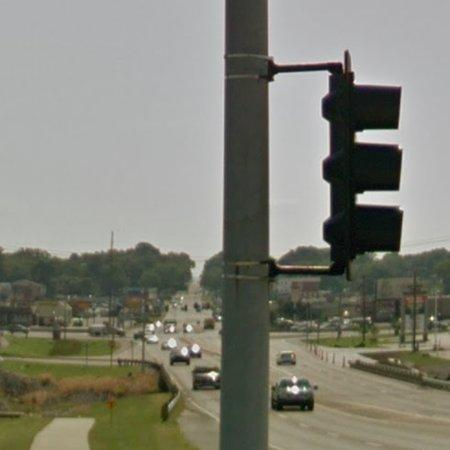traffic lights: (322, 67, 403, 269)
